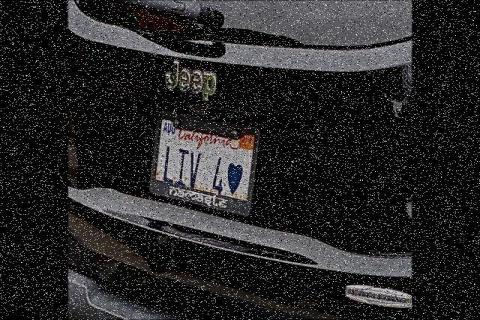LicensePlate: (153, 113, 252, 211)
